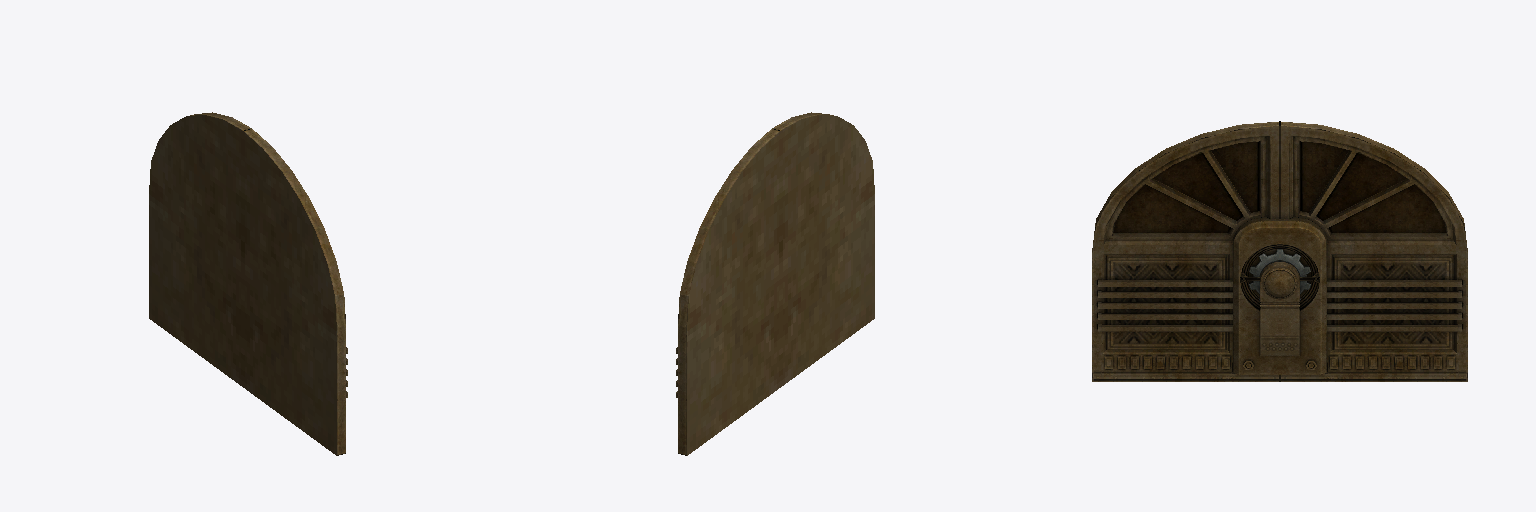
3 renders of one model, left to right at view 1: azimuth 30°, elevation 25°; view 2: azimuth 150°, elevation 25°; view 3: azimuth 270°, elevation 25°, orthographic.
Parts seen in each view (by area): view 1: Door; view 2: Door; view 3: Door.
Part boxes in pixels (left/top/right/bottom): Door: left=149, top=112, right=347, bottom=455; Door: left=676, top=112, right=874, bottom=455; Door: left=1092, top=121, right=1467, bottom=381.
Size of the model in its own units: 0.2798 by 2.64 by 3.5.
1 materials, 1 textured.